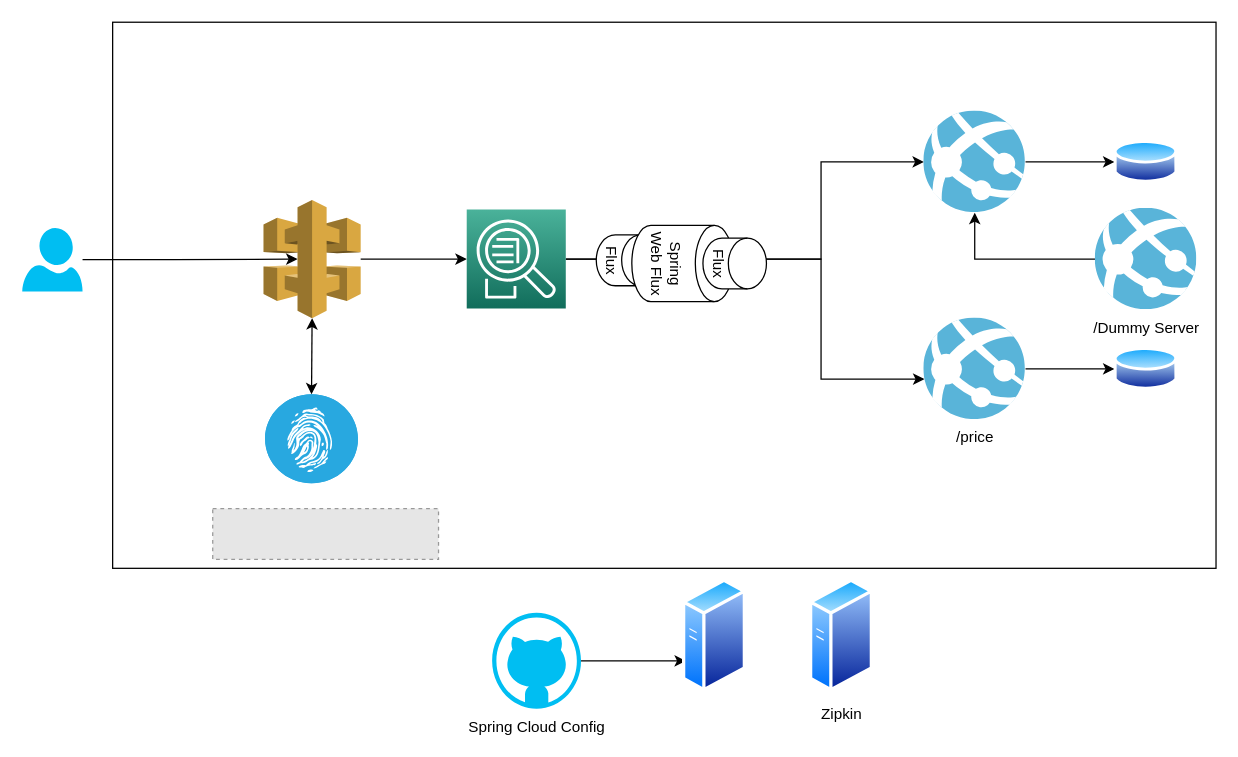
Image size: 1238x757. Some labels were removed from this diagram. Grey dashed boxes stand in for pictures. Each missing label, with the centre of its shape:
"/flight" belongs at point 974,161.
"Authorization Server" belongs at point 311,438.
"Config Server" belongs at point 714,635.
"Eureka (Service Registry)" belongs at point 515,258.
